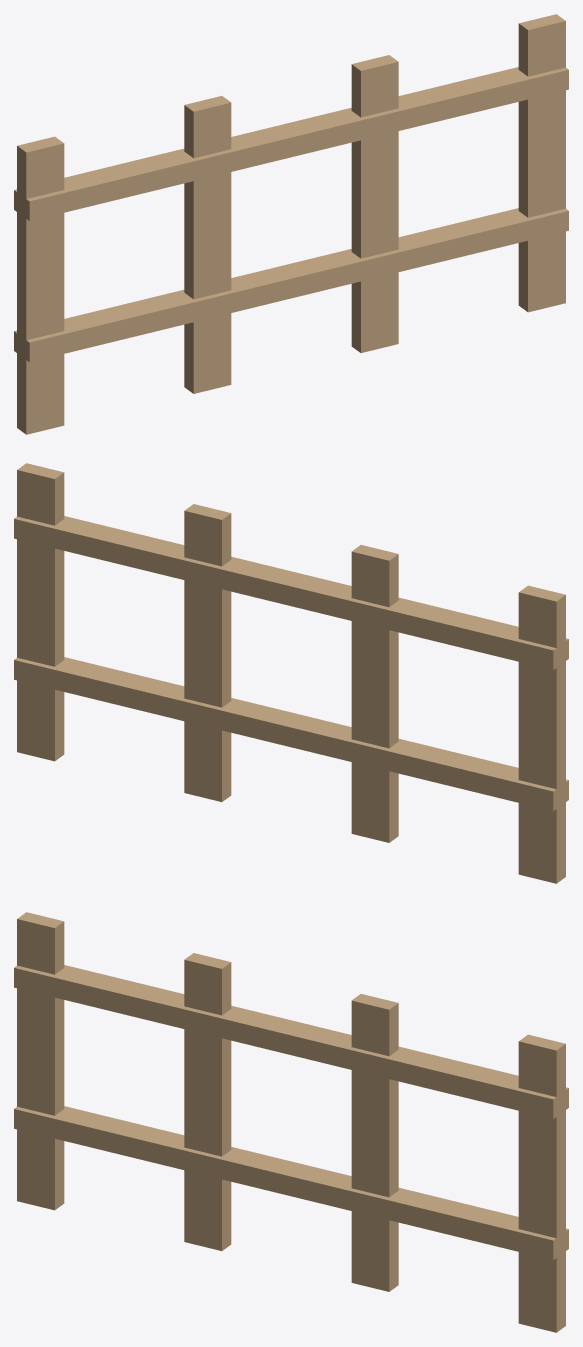
The model's file is fence.glb.
The picture shows the model from 3 angles, top to bottom: view 1: azimuth 30°, elevation 25°; view 2: azimuth 150°, elevation 25°; view 3: azimuth 330°, elevation 25°; orthographic projection.
Parts seen in each view (by area): view 1: Fence; view 2: Fence; view 3: Fence.
Boxes of the visible parts, x1,y1,x2,y2 form: Fence: [14, 14, 568, 434]; Fence: [14, 463, 568, 883]; Fence: [14, 912, 568, 1332].
Size of the model in its own units: 2 by 1 by 0.1.
